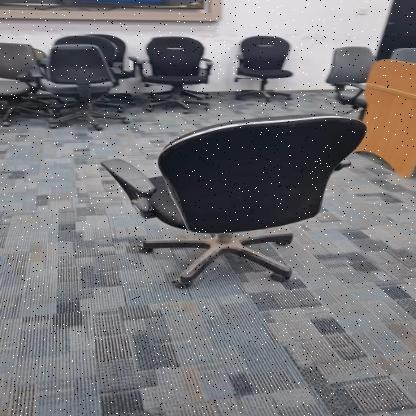chair: (98, 107, 375, 296), (42, 40, 120, 131), (133, 32, 220, 112), (232, 26, 298, 108)
